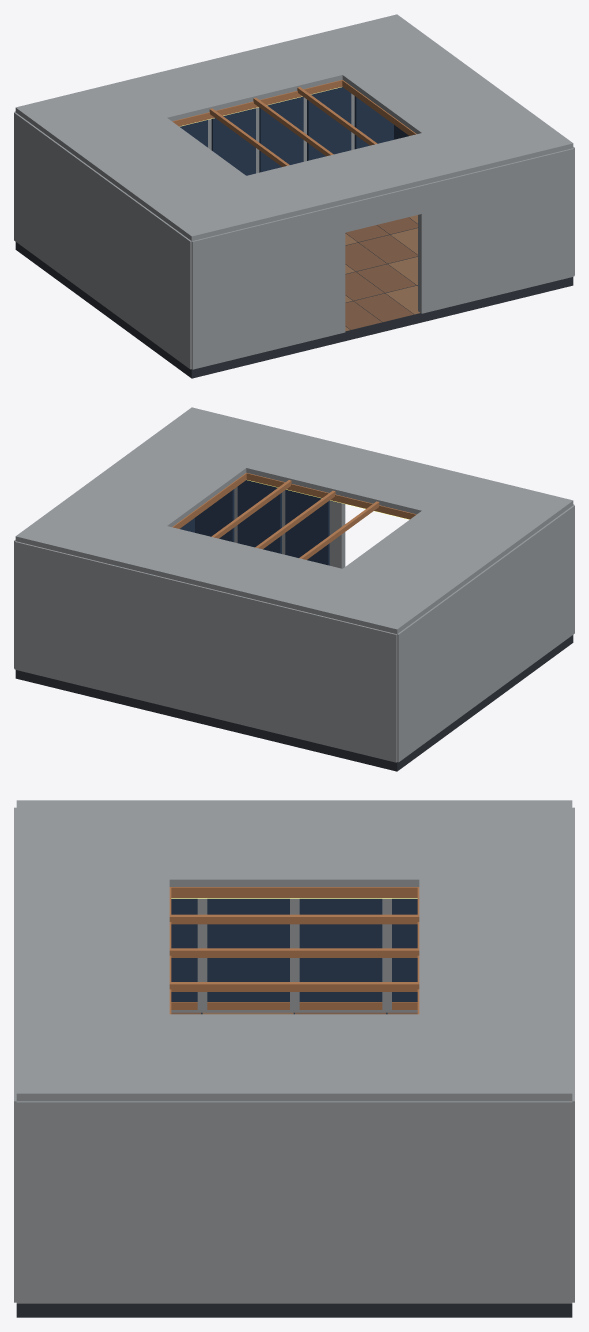
File: room_shell.glb
3 renders of one model, top to bottom at view 1: azimuth 30°, elevation 25°; view 2: azimuth 150°, elevation 25°; view 3: azimuth 270°, elevation 25°, orthographic. The views are drawn at different scales.
Visible parts, largest first — view 1: root_wall, root_navy, root_charcoal, root_wood, root_copper, root_wood2; view 2: root_wall, root_navy, root_charcoal, root_copper; view 3: root_wall, root_navy, root_copper, root_charcoal.
Part boxes in pixels (x1,y1,x2,y2): root_wall: [14, 14, 574, 369]; root_navy: [179, 87, 408, 175]; root_charcoal: [15, 217, 573, 378]; root_wood: [345, 217, 417, 329]; root_copper: [172, 80, 416, 166]; root_wood2: [345, 215, 419, 331]; root_wall: [14, 407, 574, 762]; root_navy: [180, 480, 329, 565]; root_charcoal: [15, 635, 573, 771]; root_copper: [172, 473, 416, 559]; root_wall: [14, 800, 574, 1303]; root_navy: [171, 898, 417, 1001]; root_copper: [169, 887, 419, 1014]; root_charcoal: [16, 1012, 572, 1317].
Size of the model in its own units: 10.08 by 3.56 by 8.08.
